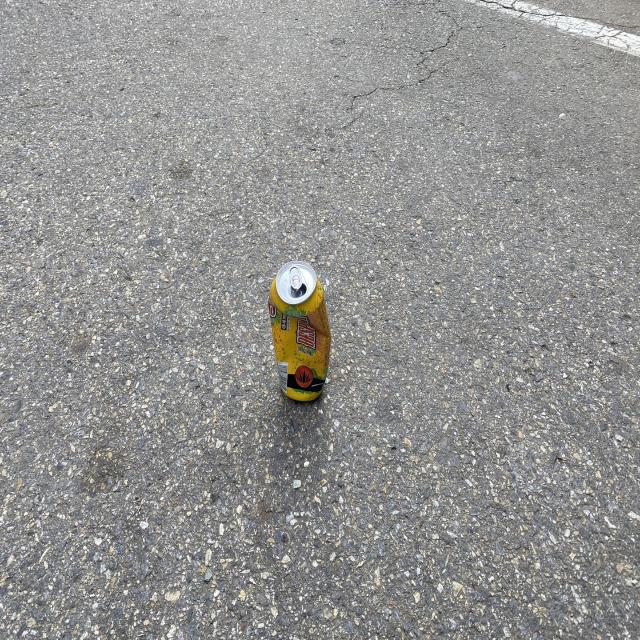can: (268, 260, 331, 401)
